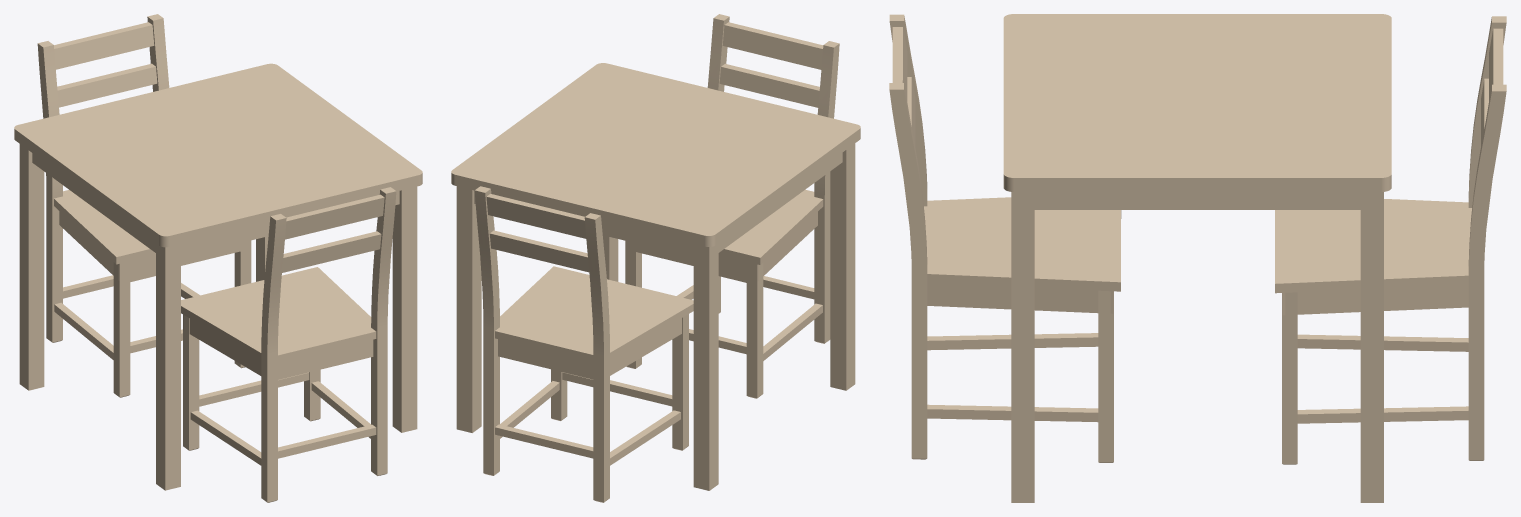
The model's file is 589_ダイニングテーブルセット2人掛け.glb.
3 renders of one model, left to right at view 1: azimuth 30°, elevation 25°; view 2: azimuth 150°, elevation 25°; view 3: azimuth 270°, elevation 25°, orthographic. The views are drawn at different scales.
Visible parts, largest first — view 1: Body, chair2, chair1; view 2: Body, chair1, chair2; view 3: Body, chair2, chair1.
Boxes of the visible parts, x1,y1,x2,y2 form: Body: (14,63,422,490); chair2: (181,187,396,502); chair1: (37,14,251,397); Body: (451,63,860,490); chair1: (474,186,693,502); chair2: (625,14,839,398); Body: (1003,14,1391,502); chair2: (889,14,1121,462); chair1: (1275,16,1506,464).
Bounding box in the file's own units: 0.75 × 0.79 × 1.19.
